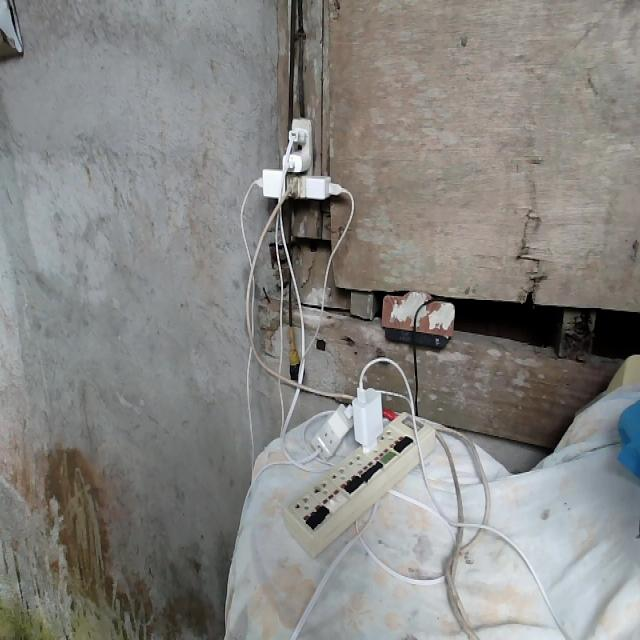-: (244, 109, 348, 207)
